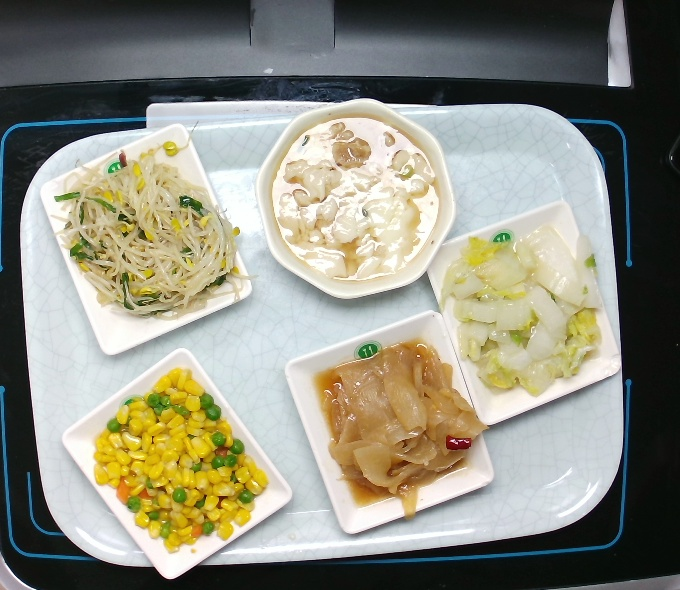wcq-DaBaiCai: (439, 222, 607, 400)
wcq-DongGua: (309, 334, 492, 524)
wcq-DouYa: (46, 118, 263, 325)
wcq-ShuiZhengDan: (267, 109, 443, 285)
wcq-TianMiTianDou: (89, 365, 275, 558)
